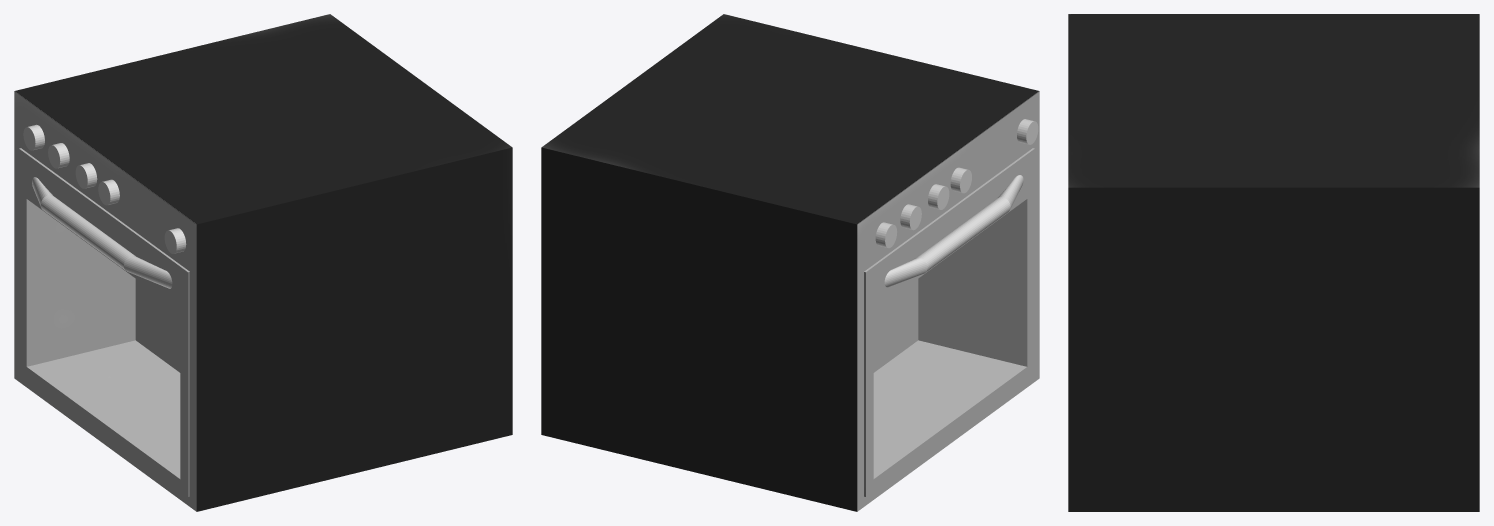
The model's file is horno.fbx.
3 renders of one model, left to right at view 1: azimuth 30°, elevation 25°; view 2: azimuth 150°, elevation 25°; view 3: azimuth 270°, elevation 25°, orthographic. The views are drawn at different scales.
Parts seen in each view (by area): view 1: Horno; view 2: Horno; view 3: Horno.
Part boxes in pixels (<box>): Horno: <box>14,14,512,511</box>; Horno: <box>541,14,1039,511</box>; Horno: <box>1068,14,1479,511</box>.
Bounding box in the file's own units: 214 × 174 × 200.
1 material, 1 textured.
